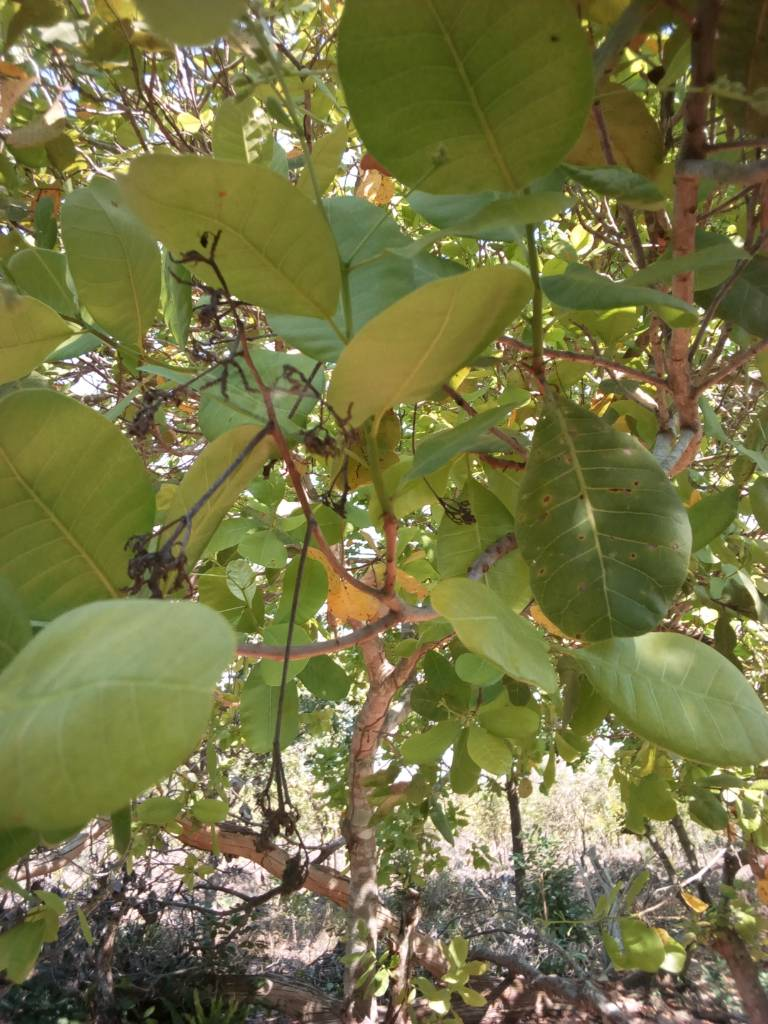Dessèchement des bourgeons: (127, 355, 252, 435), (257, 747, 316, 902), (175, 230, 254, 333), (124, 514, 213, 592)
